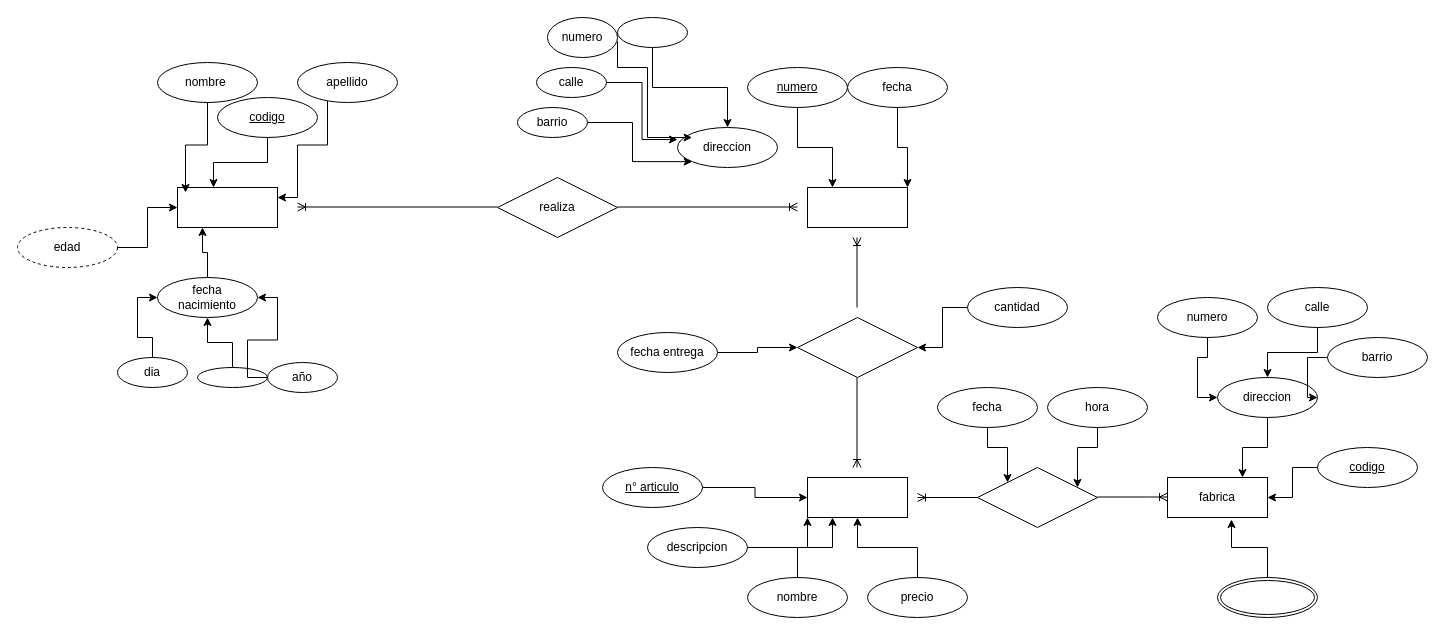
This 1445x635 diagram has some shape labels left out. The centre of each missing label's shape, as x and y in pixels:
"articulo" goes at (x=857, y=497).
"ciudad" goes at (x=652, y=32).
"cliente" goes at (x=227, y=207).
"incluye" goes at (x=857, y=347).
"mes" goes at (x=232, y=377).
"pedido" goes at (x=857, y=207).
"suministra" goes at (x=1037, y=497).
"telefono" goes at (x=1267, y=597).
